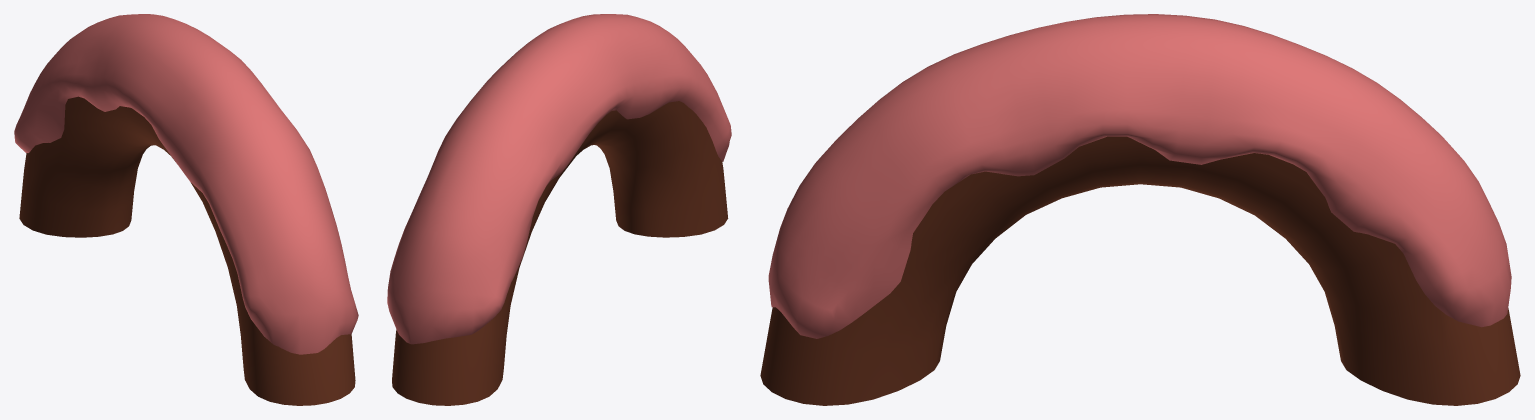
File: SM_Donut.fbx
The picture shows the model from 3 angles, left to right: view 1: azimuth 30°, elevation 25°; view 2: azimuth 150°, elevation 25°; view 3: azimuth 270°, elevation 25°; orthographic projection. The views are drawn at different scales.
Visible parts, largest first — view 1: SM_Donut; view 2: SM_Donut; view 3: SM_Donut.
Part boxes in pixels (box(x1,y1,x2,y2)): SM_Donut: box(14, 14, 358, 405); SM_Donut: box(387, 14, 731, 405); SM_Donut: box(760, 14, 1520, 405).
Size of the model in its own units: 9.79 by 22.08 by 42.95.
